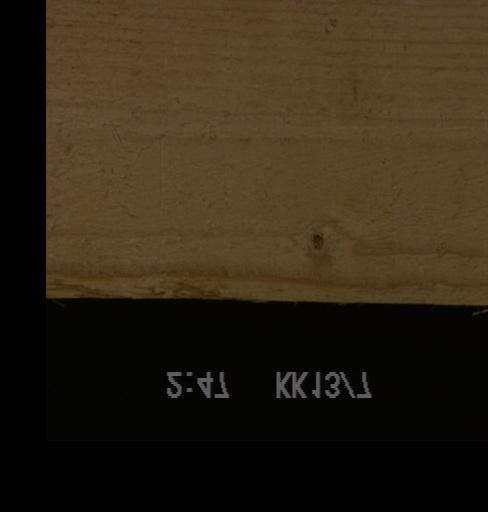dry_knot: (306, 225, 327, 256)
wave: (46, 277, 227, 298)
